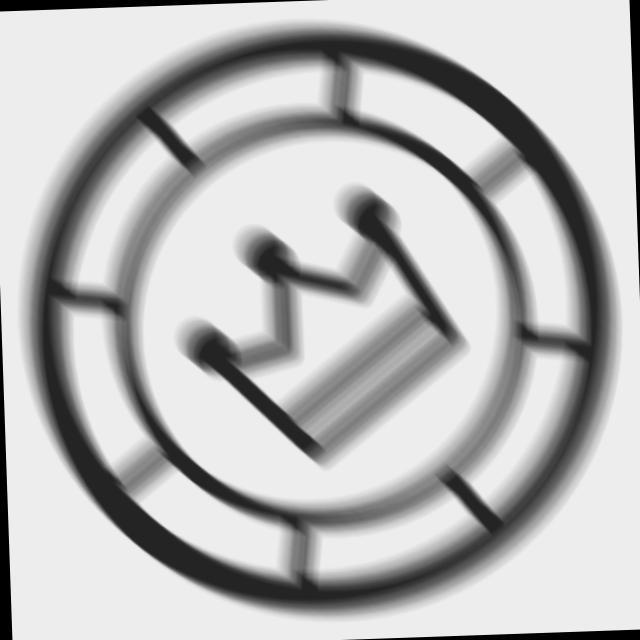coin: (1, 4, 637, 638)
